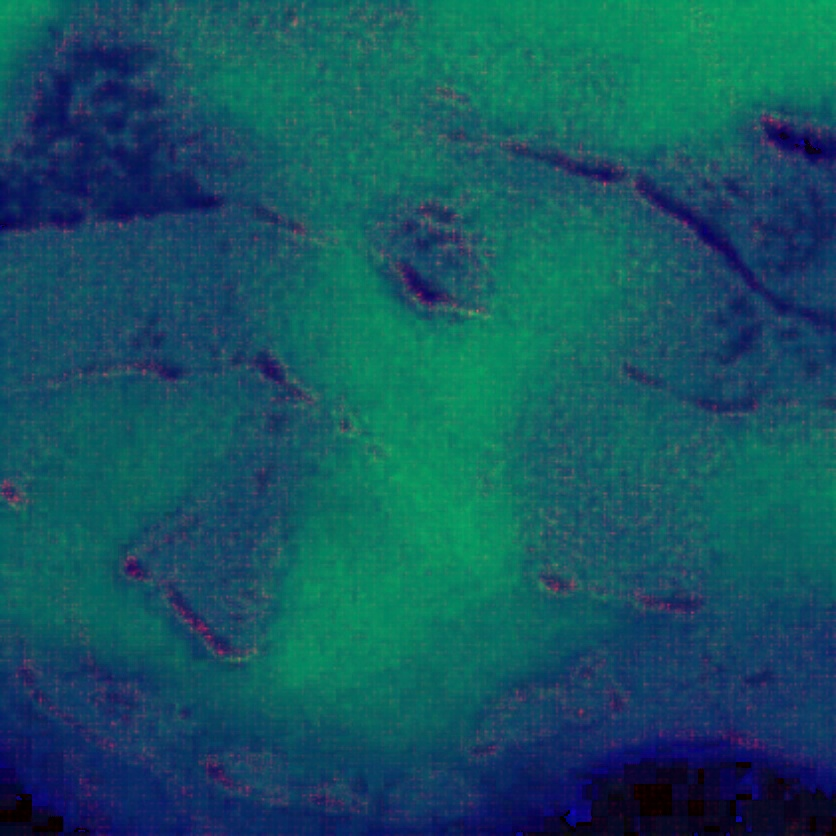rip_current: (170, 88, 610, 735)
